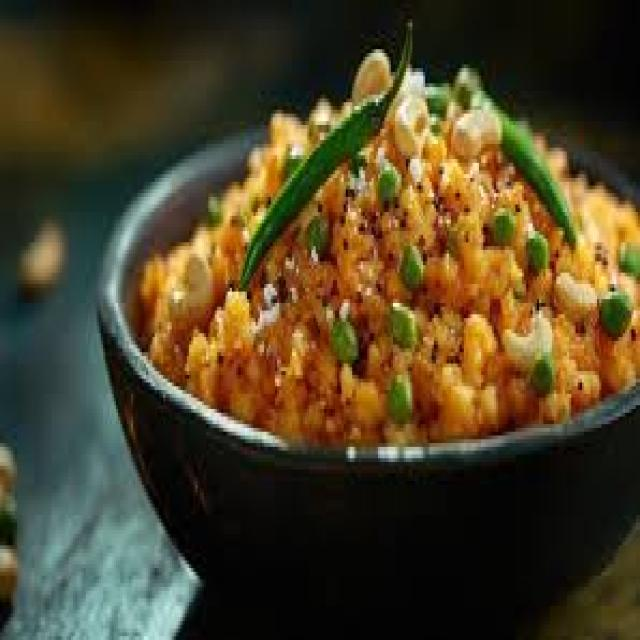UPMA: (127, 45, 636, 443)
